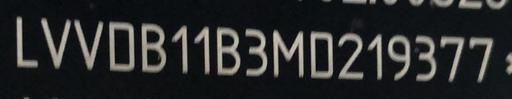letter: (268, 26, 306, 79), (70, 18, 104, 69), (106, 19, 138, 72), (40, 16, 70, 69), (336, 29, 366, 82), (436, 32, 466, 83), (213, 23, 241, 76), (14, 13, 40, 68), (139, 21, 167, 72), (306, 28, 334, 79), (466, 34, 494, 83), (242, 26, 268, 77), (386, 31, 410, 82), (412, 31, 436, 82), (168, 21, 190, 74), (191, 22, 211, 75), (368, 31, 384, 82)
